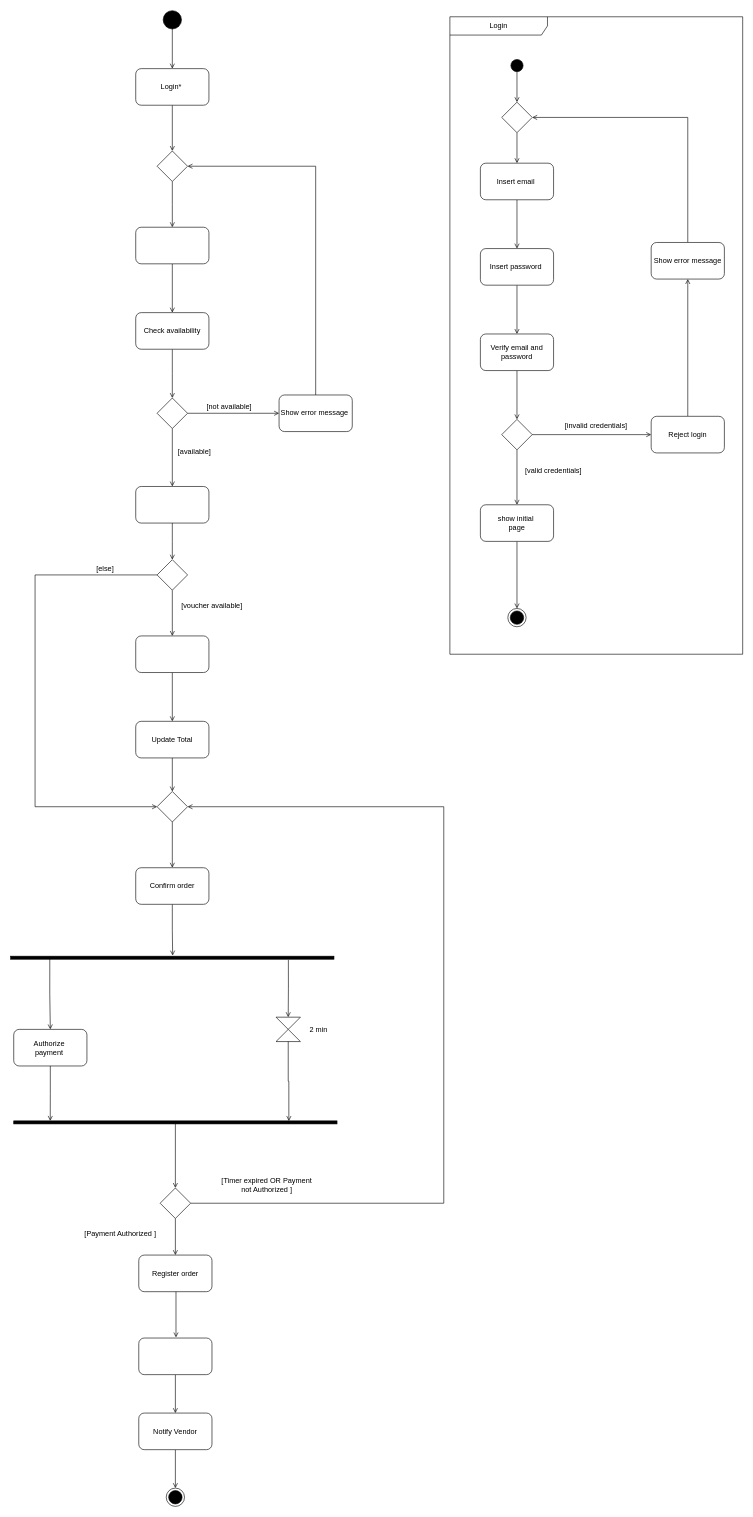
The diagram is 753 pixels wide and 1517 high, and some of its shapes have lost their labels. The shapes that lost their labels are listed below. From the top down, each one's centre as x and y in pixels, then its label:
At (x=172, y=245): "Select product".
At (x=172, y=504): "Calculate total".
At (x=172, y=654): "Apply voucher".
At (x=175, y=1356): "Notify Customer".
